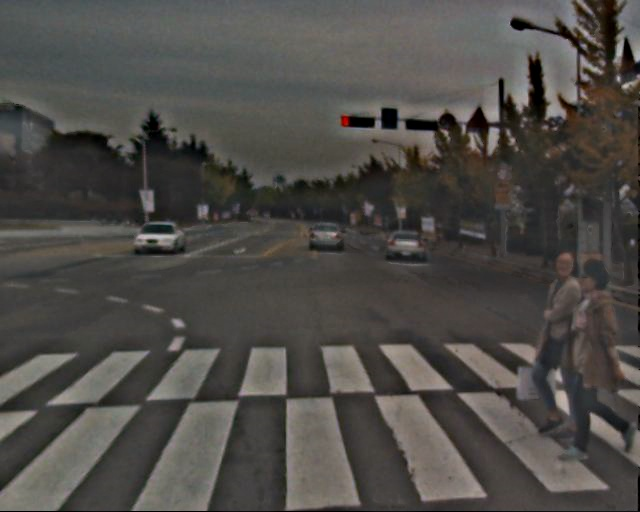person: (562, 253, 636, 461), (529, 243, 600, 449)
